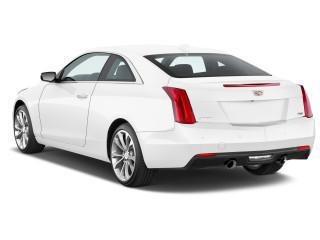cadillac: (250, 87, 268, 99)
